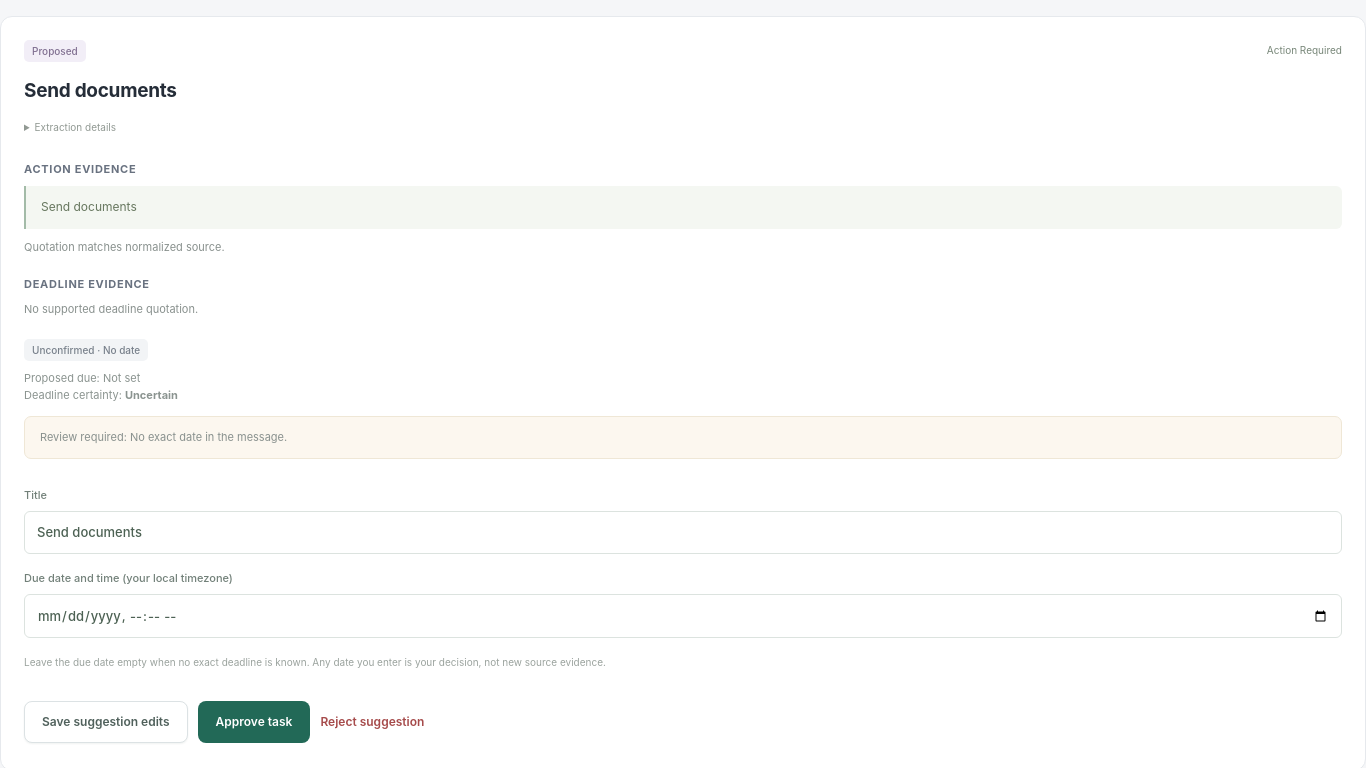
Test: P0 browser interactions › keeps separate source evidence and uncertainty visible and approves edited intent at the observed version
This screenshot has width=1366, height=768.
expect the text "No supported deadline quotation." is shown: met, box [24,302,198,316]
expect the text "Review required: No exact date in the message." is shown: met, box [24,416,1342,459]
Replace the text in the field labelled "Title" with "Send registration documents" at (683, 533), box [24,511,1342,554]
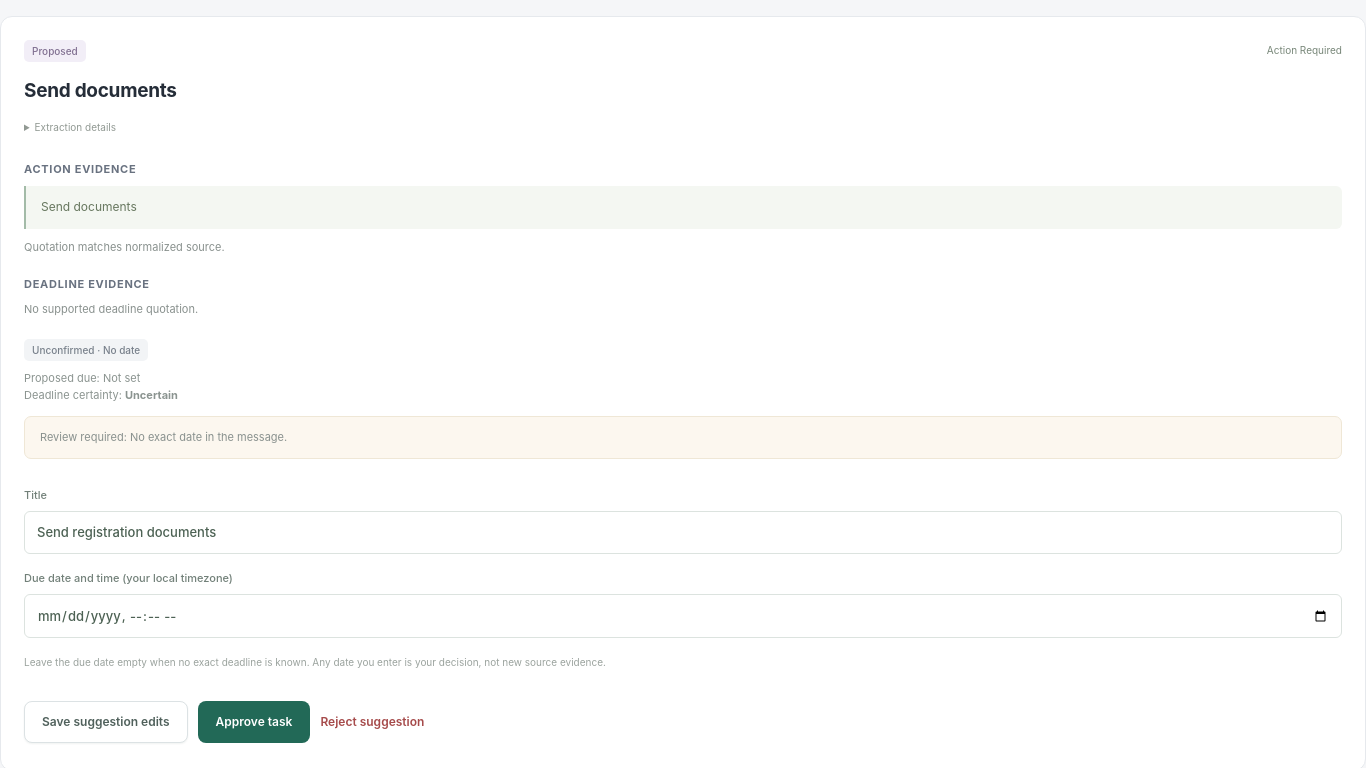
Click the button "Approve task" at (254, 722), box [198,701,310,743]
(page scrolled)
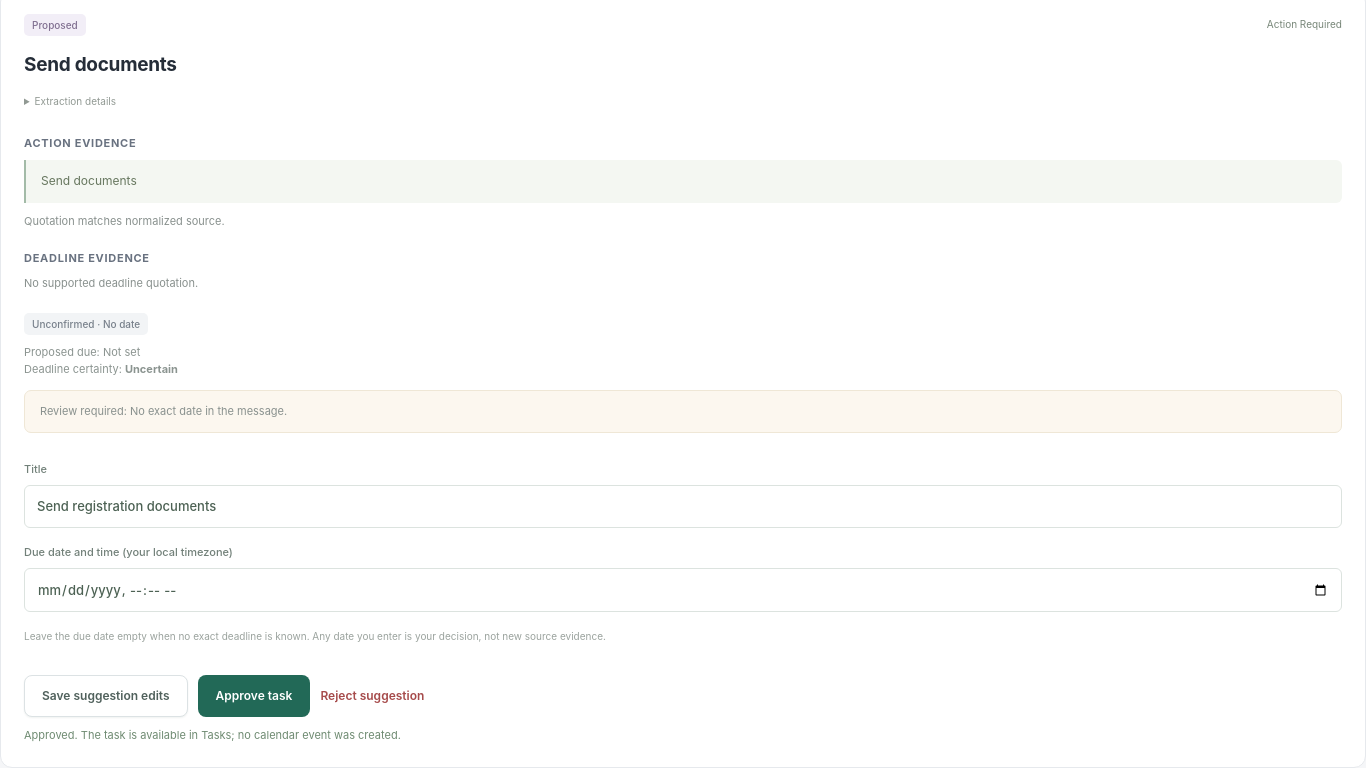
expect the text "Approved. The task is available in Tasks; no calendar event was created." is shown: met, box [24,728,401,742]
